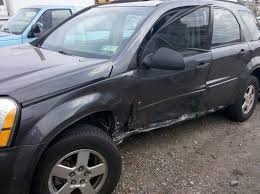Dent: (107, 77, 208, 144)
